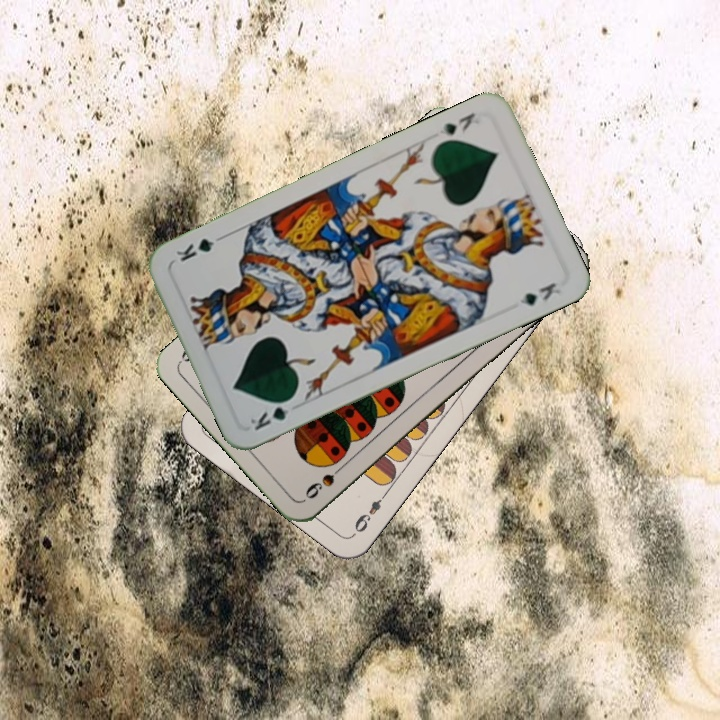E9: (350, 487, 391, 536)
GK: (246, 393, 297, 434), (435, 108, 478, 138)
S9: (301, 458, 349, 502)
